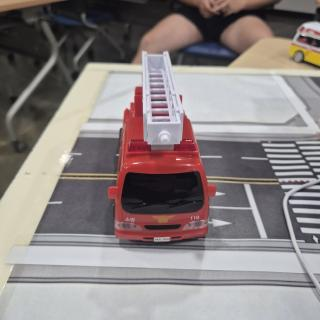Fire_truck: (108, 52, 216, 243)
